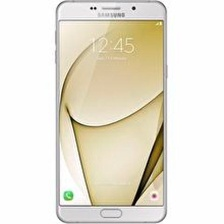phone: (49, 0, 169, 224)
